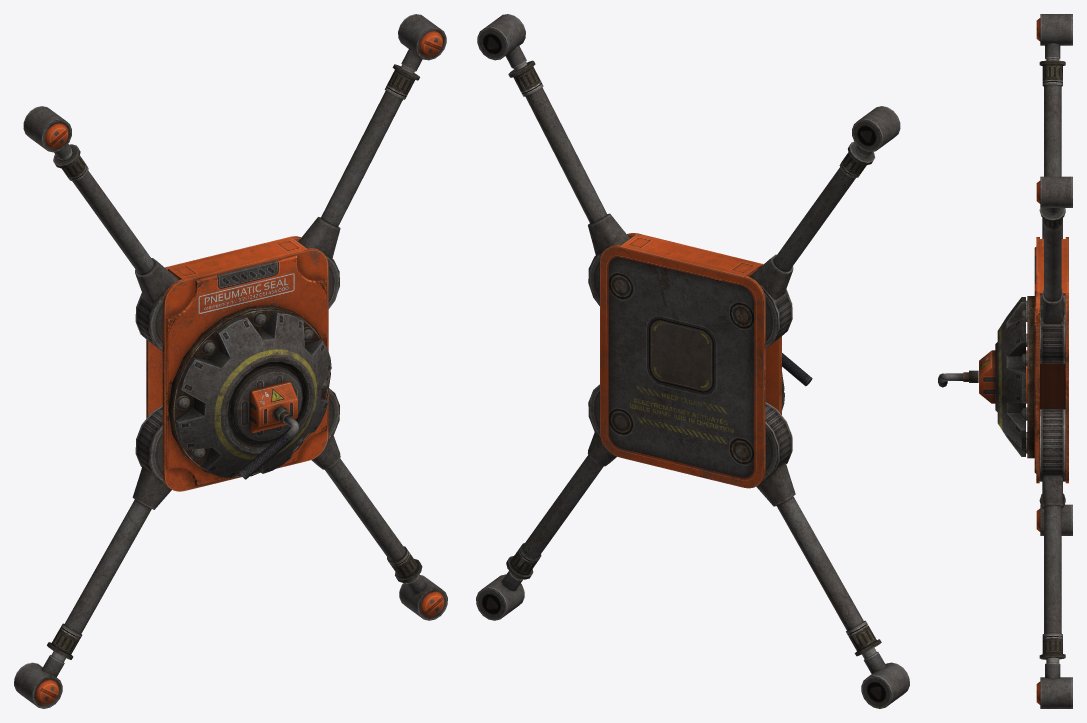
Rendered from door_lock_theta_open.dae.
The picture shows the model from 3 angles, left to right: view 1: azimuth 30°, elevation 25°; view 2: azimuth 150°, elevation 25°; view 3: azimuth 270°, elevation 25°; orthographic projection. The views are drawn at different scales.
Parts seen in each view (by area): view 1: polySurface89, LL, LH, RH, RL, LL_outer, RH_outer, LH_outer, RL_outer, polySurface49; view 2: polySurface89, LL, LH, RH, RL, LL_outer, RH_outer, LH_outer, RL_outer; view 3: polySurface89, RL, RH, LH, RL_outer, LH_outer, RH_outer, LL_outer, polySurface49.
Part boxes in pixels (left/top/right/bottom): polySurface89: left=146, top=236, right=331, bottom=491; LL: left=47, top=405, right=171, bottom=659; LH: left=53, top=144, right=179, bottom=351; RH: left=296, top=64, right=419, bottom=308; RL: left=311, top=388, right=422, bottom=582; LL_outer: left=14, top=651, right=65, bottom=708; RH_outer: left=398, top=14, right=446, bottom=73; LH_outer: left=23, top=106, right=72, bottom=160; RL_outer: left=399, top=574, right=447, bottom=620; polySurface49: left=239, top=412, right=298, bottom=479; polySurface89: left=600, top=233, right=784, bottom=488; LL: left=756, top=402, right=881, bottom=656; LH: left=749, top=142, right=875, bottom=347; RH: left=508, top=60, right=631, bottom=305; RL: left=506, top=384, right=616, bottom=579; LL_outer: left=861, top=647, right=909, bottom=708; RH_outer: left=477, top=14, right=527, bottom=70; LH_outer: left=852, top=106, right=900, bottom=157; RL_outer: left=476, top=571, right=524, bottom=620; polySurface89: left=968, top=237, right=1068, bottom=483; RL: left=1039, top=409, right=1065, bottom=659; RH: left=1039, top=208, right=1065, bottom=363; LH: left=1039, top=60, right=1065, bottom=238; RL_outer: left=1036, top=657, right=1072, bottom=708; LH_outer: left=1036, top=14, right=1072, bottom=60; RH_outer: left=1036, top=176, right=1072, bottom=214; LL_outer: left=1036, top=504, right=1072, bottom=535; polySurface49: left=938, top=372, right=968, bottom=387.
Bounding box in the file's own units: 1.41 × 1.93 × 0.4452.
Materials: 1 (1 with a texture image).
